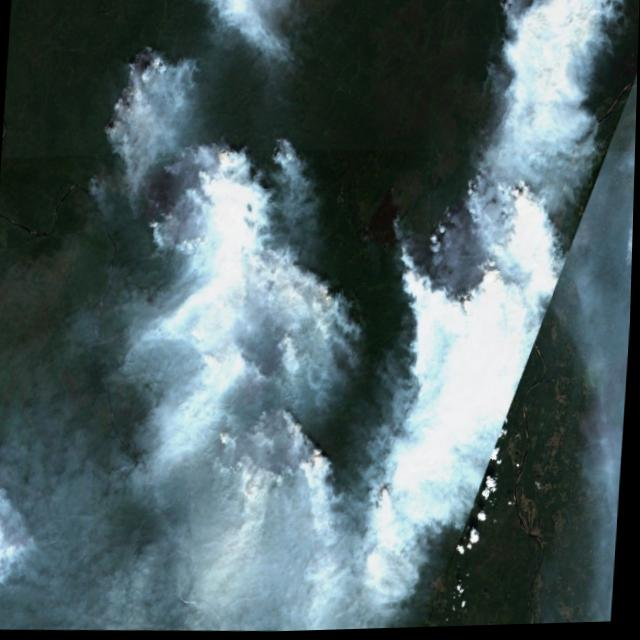fire: (412, 155, 581, 322), (187, 248, 349, 397), (213, 394, 342, 503), (103, 30, 176, 146), (180, 140, 263, 239), (0, 479, 50, 572), (364, 474, 408, 516)
